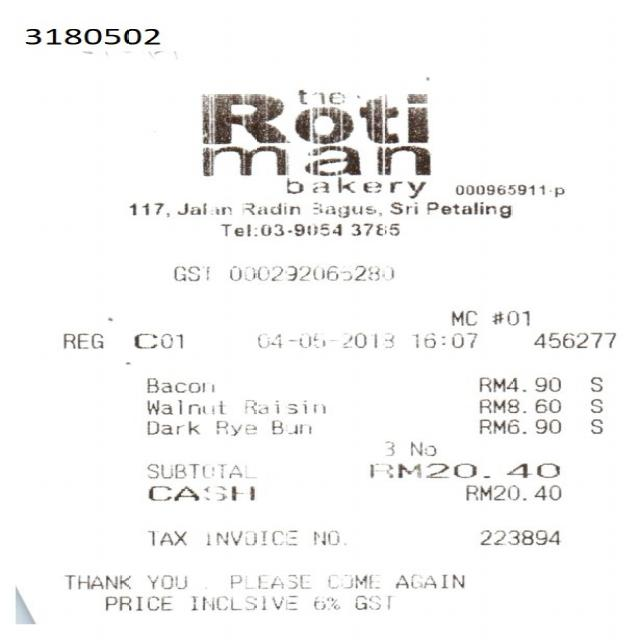text: (200, 90, 426, 143), (201, 145, 429, 175), (286, 176, 425, 198), (368, 461, 558, 477), (228, 264, 392, 280), (24, 28, 158, 45), (255, 333, 391, 347), (146, 462, 254, 478), (146, 485, 254, 500), (190, 594, 296, 609), (219, 222, 339, 235), (454, 184, 563, 197), (465, 484, 559, 499), (205, 530, 296, 545), (424, 201, 509, 217), (533, 332, 614, 348), (478, 376, 558, 392), (478, 529, 558, 544), (146, 399, 222, 414), (478, 398, 558, 412), (244, 399, 324, 413), (478, 419, 558, 433), (229, 573, 307, 587), (146, 377, 213, 392), (104, 595, 170, 610), (393, 573, 463, 587), (311, 202, 380, 216), (65, 574, 129, 589), (412, 332, 476, 346), (324, 573, 378, 587), (146, 420, 198, 433), (242, 202, 298, 214), (132, 333, 180, 347), (61, 332, 101, 348), (176, 202, 229, 214), (215, 420, 254, 436), (351, 222, 398, 235), (489, 309, 529, 324), (147, 574, 186, 589), (128, 202, 168, 216), (353, 594, 393, 608), (172, 265, 208, 280), (148, 530, 185, 544), (272, 420, 310, 433), (388, 201, 416, 215), (312, 594, 337, 609), (450, 309, 474, 324), (409, 441, 435, 454), (313, 531, 337, 544), (589, 376, 600, 391), (589, 417, 600, 432), (589, 398, 600, 412), (383, 440, 392, 455)
